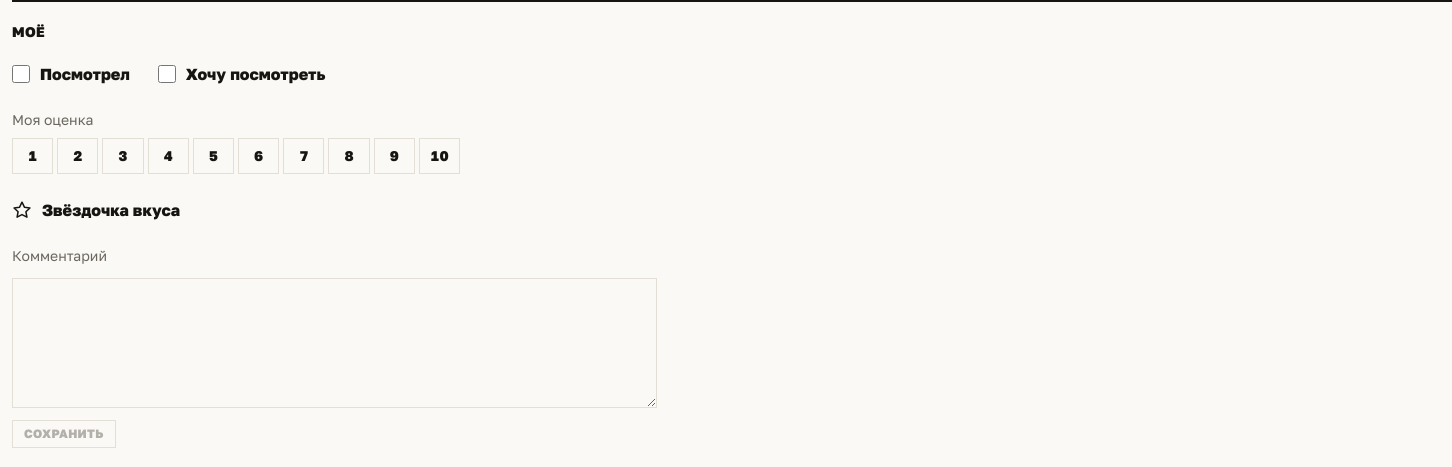
Test: индикация сохранения и обработка ошибки › после успешного сохранения появляется надпись «Сохранено»
This screenshot has width=1452, height=467.
Click the button "9". click: click(394, 156)
box: left=374, top=138, right=415, bottom=174
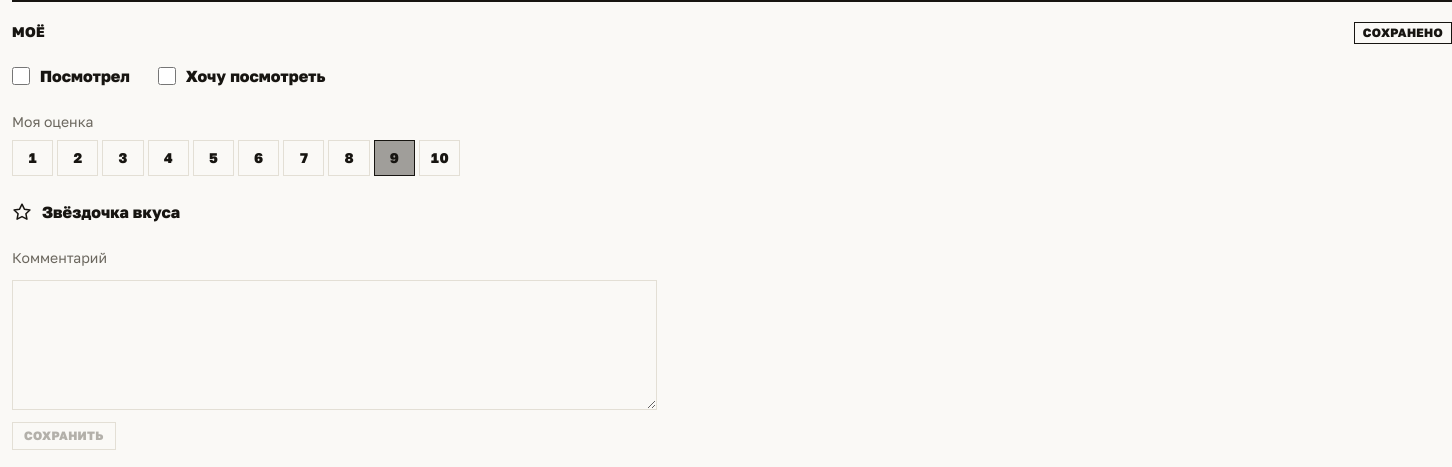
Result: the text "Сохранено" is shown at left=1354, top=22, right=1451, bottom=44
